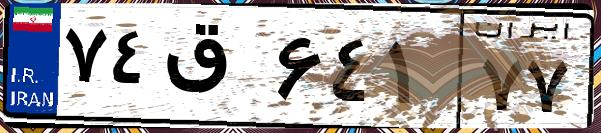1: (385, 28, 445, 110)
4: (330, 28, 385, 110), (110, 28, 158, 98)
6: (270, 28, 330, 110)
7: (57, 26, 110, 100), (475, 38, 525, 113), (525, 38, 570, 115)
ق: (158, 20, 270, 120)
